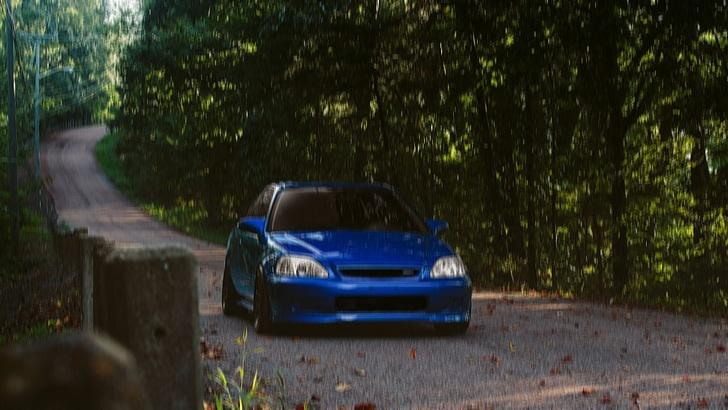Car hood: (269, 227, 459, 268)
Front bumper: (262, 279, 478, 337)
Headlight - -L-: (425, 249, 471, 283)
Headlight - -R-: (273, 252, 333, 283)
Side mirror - -L-: (420, 212, 456, 242)
Side mirror - -R-: (234, 212, 274, 244)
